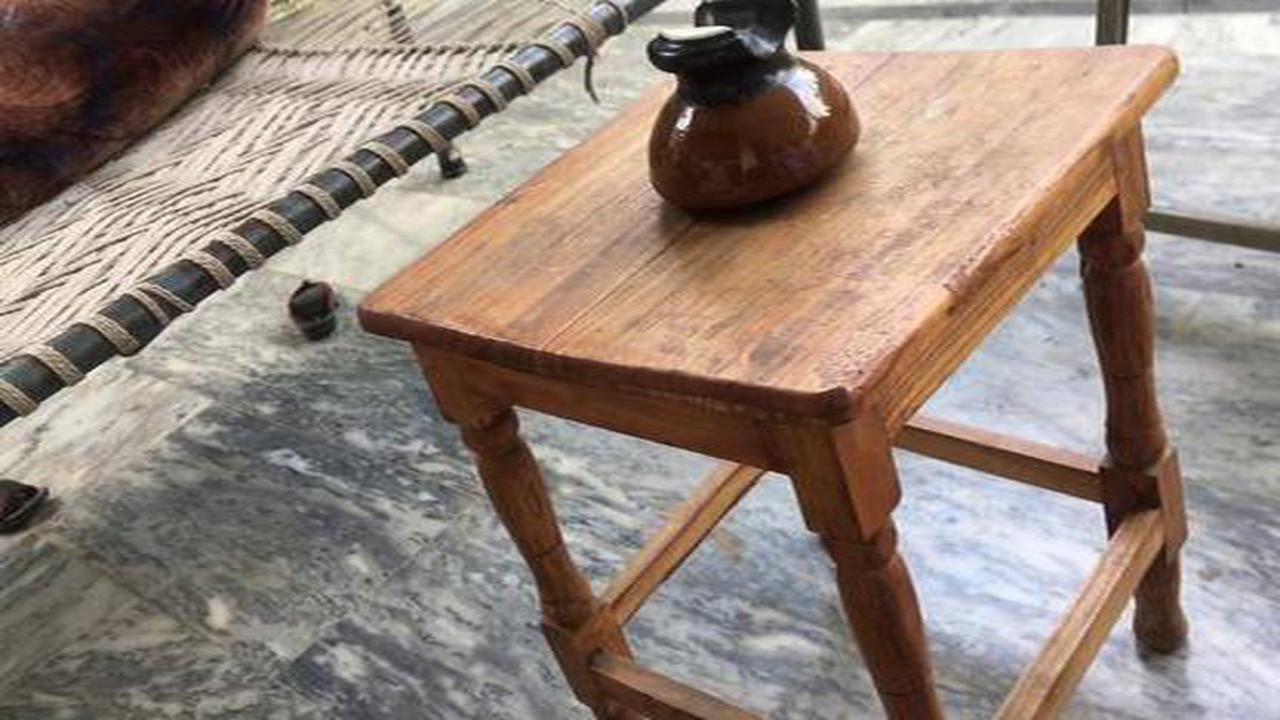insulator_pin: (619, 2, 893, 239)
